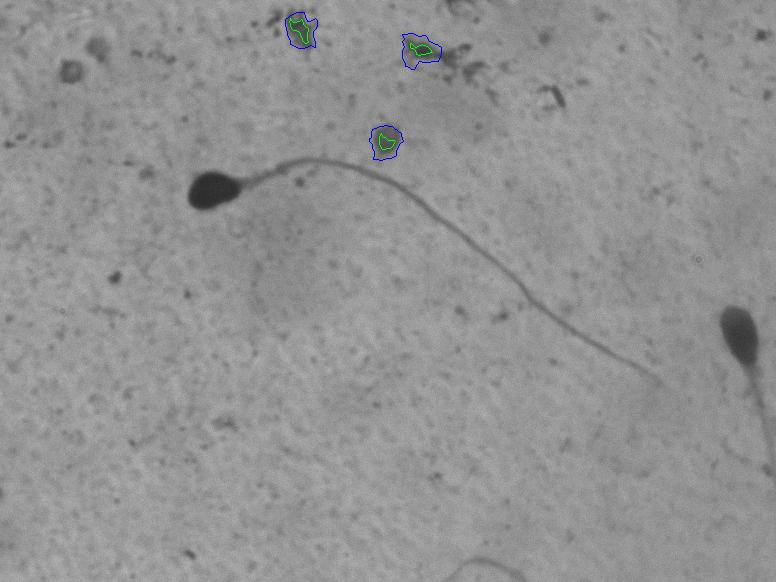Abnormal: (137, 135, 504, 373)
